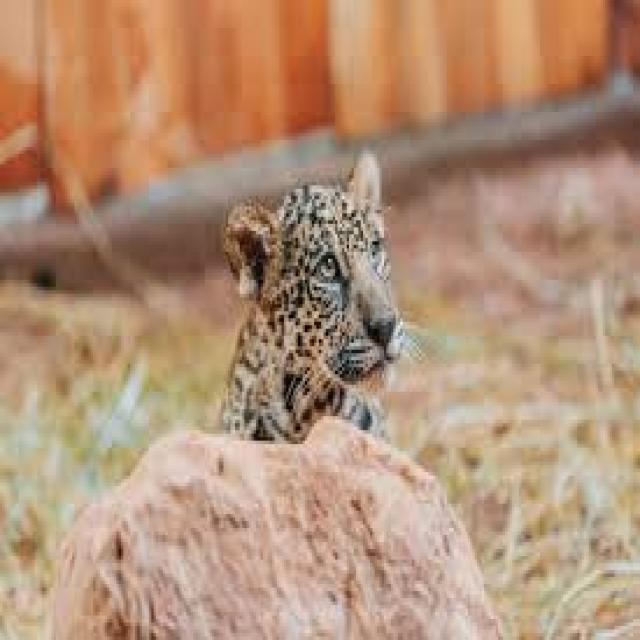Jaguar: (209, 157, 405, 448)
